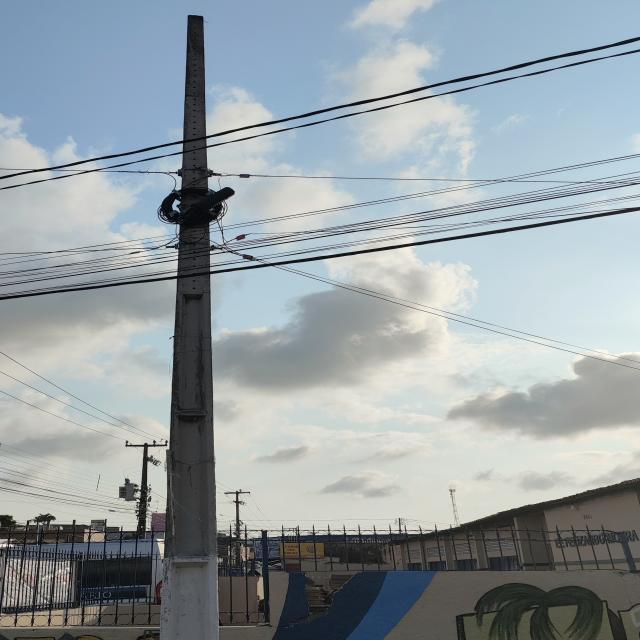Plaqueta: (236, 234, 246, 241), (242, 254, 253, 260), (239, 174, 250, 178), (130, 251, 139, 254)
